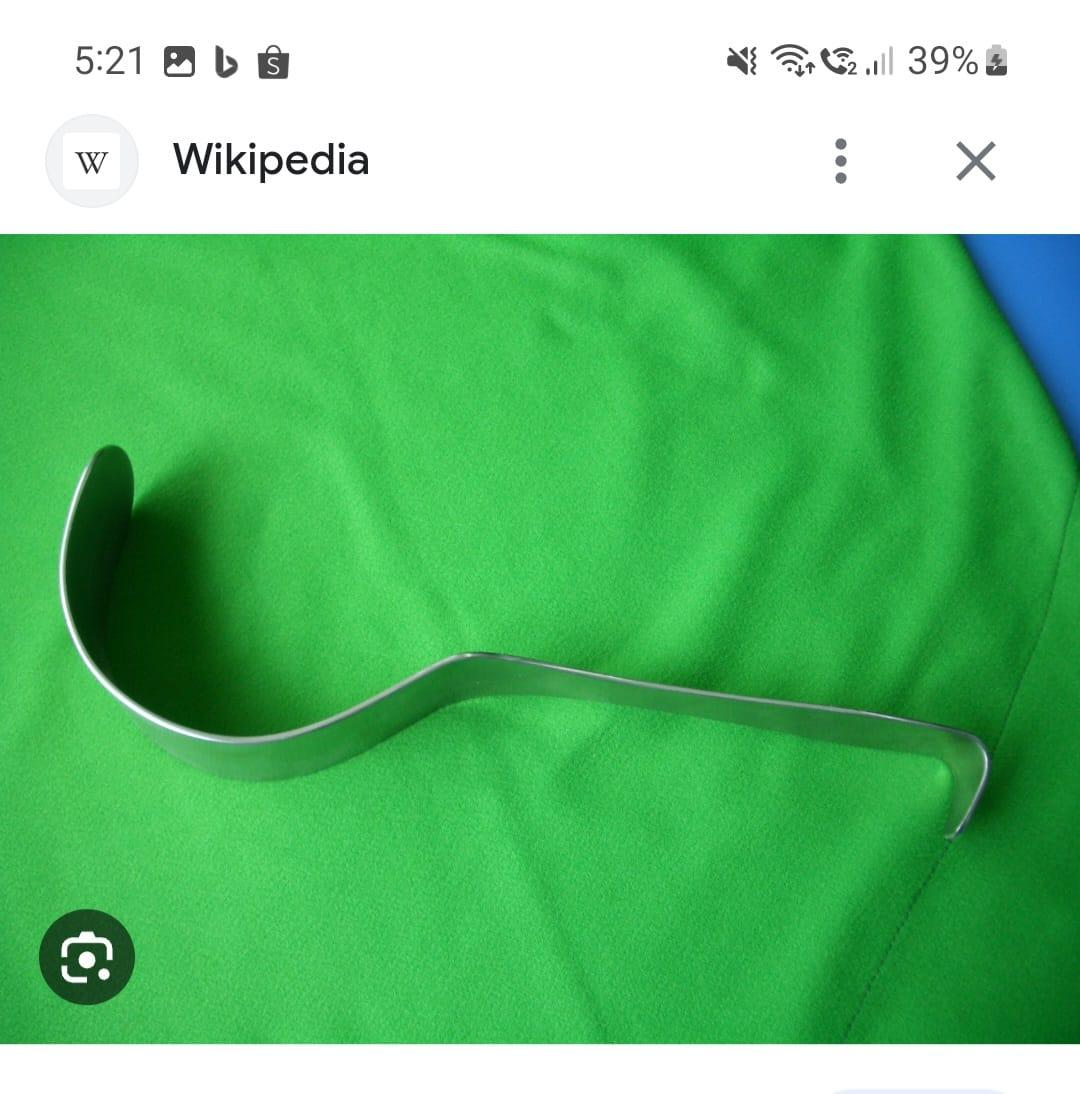Deaver Retractor: (47, 438, 1003, 848)
